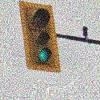traffic lights: (20, 1, 59, 71)
